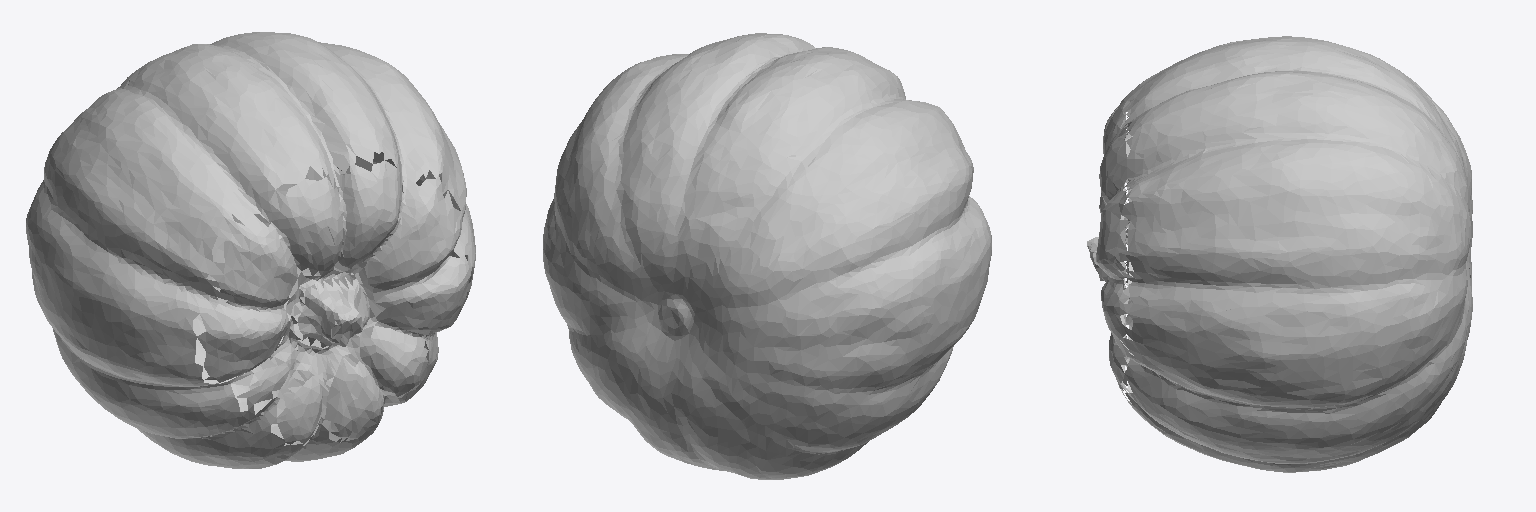
Rendered from pumpkin.obj.
3 renders of one model, left to right at view 1: azimuth 30°, elevation 25°; view 2: azimuth 150°, elevation 25°; view 3: azimuth 270°, elevation 25°, orthographic.
Bounding box in the file's own units: 79.14 × 76.94 × 68.4.